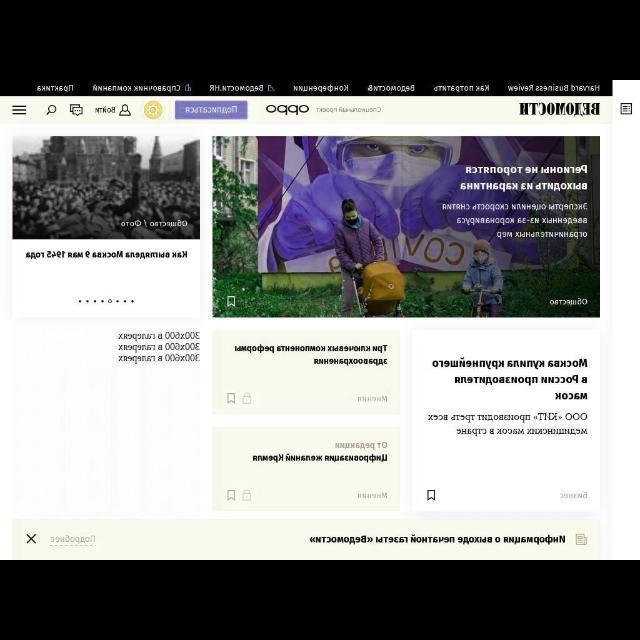icon: (68, 102, 84, 118), (24, 532, 38, 546), (12, 104, 28, 116), (46, 105, 59, 118), (119, 104, 131, 118), (226, 294, 237, 308), (242, 392, 252, 406), (226, 393, 237, 405), (621, 103, 631, 115), (577, 534, 587, 546), (227, 490, 236, 502), (428, 491, 437, 502), (242, 490, 250, 502)
iframe: (11, 518, 601, 560)
image: (212, 137, 600, 317), (12, 137, 200, 239), (520, 102, 600, 116), (266, 105, 310, 115), (143, 101, 163, 121)
multitab: (1, 82, 611, 96)
pageindicator: (76, 298, 136, 306)
text: (432, 358, 590, 402), (441, 203, 589, 239), (427, 411, 589, 437), (307, 532, 565, 546), (459, 164, 589, 190), (234, 344, 386, 366), (117, 332, 201, 364), (26, 250, 188, 260), (252, 455, 388, 463), (91, 83, 191, 93), (506, 84, 600, 94), (209, 84, 275, 94), (432, 84, 490, 95), (50, 534, 96, 546), (294, 83, 348, 93), (316, 106, 382, 114), (336, 441, 388, 451), (366, 83, 416, 93), (36, 85, 74, 94), (548, 298, 588, 306), (357, 394, 388, 404), (560, 492, 588, 501), (357, 492, 388, 500), (94, 107, 116, 115)
textbutton: (175, 100, 248, 120)
toolbar: (1, 98, 612, 125)
